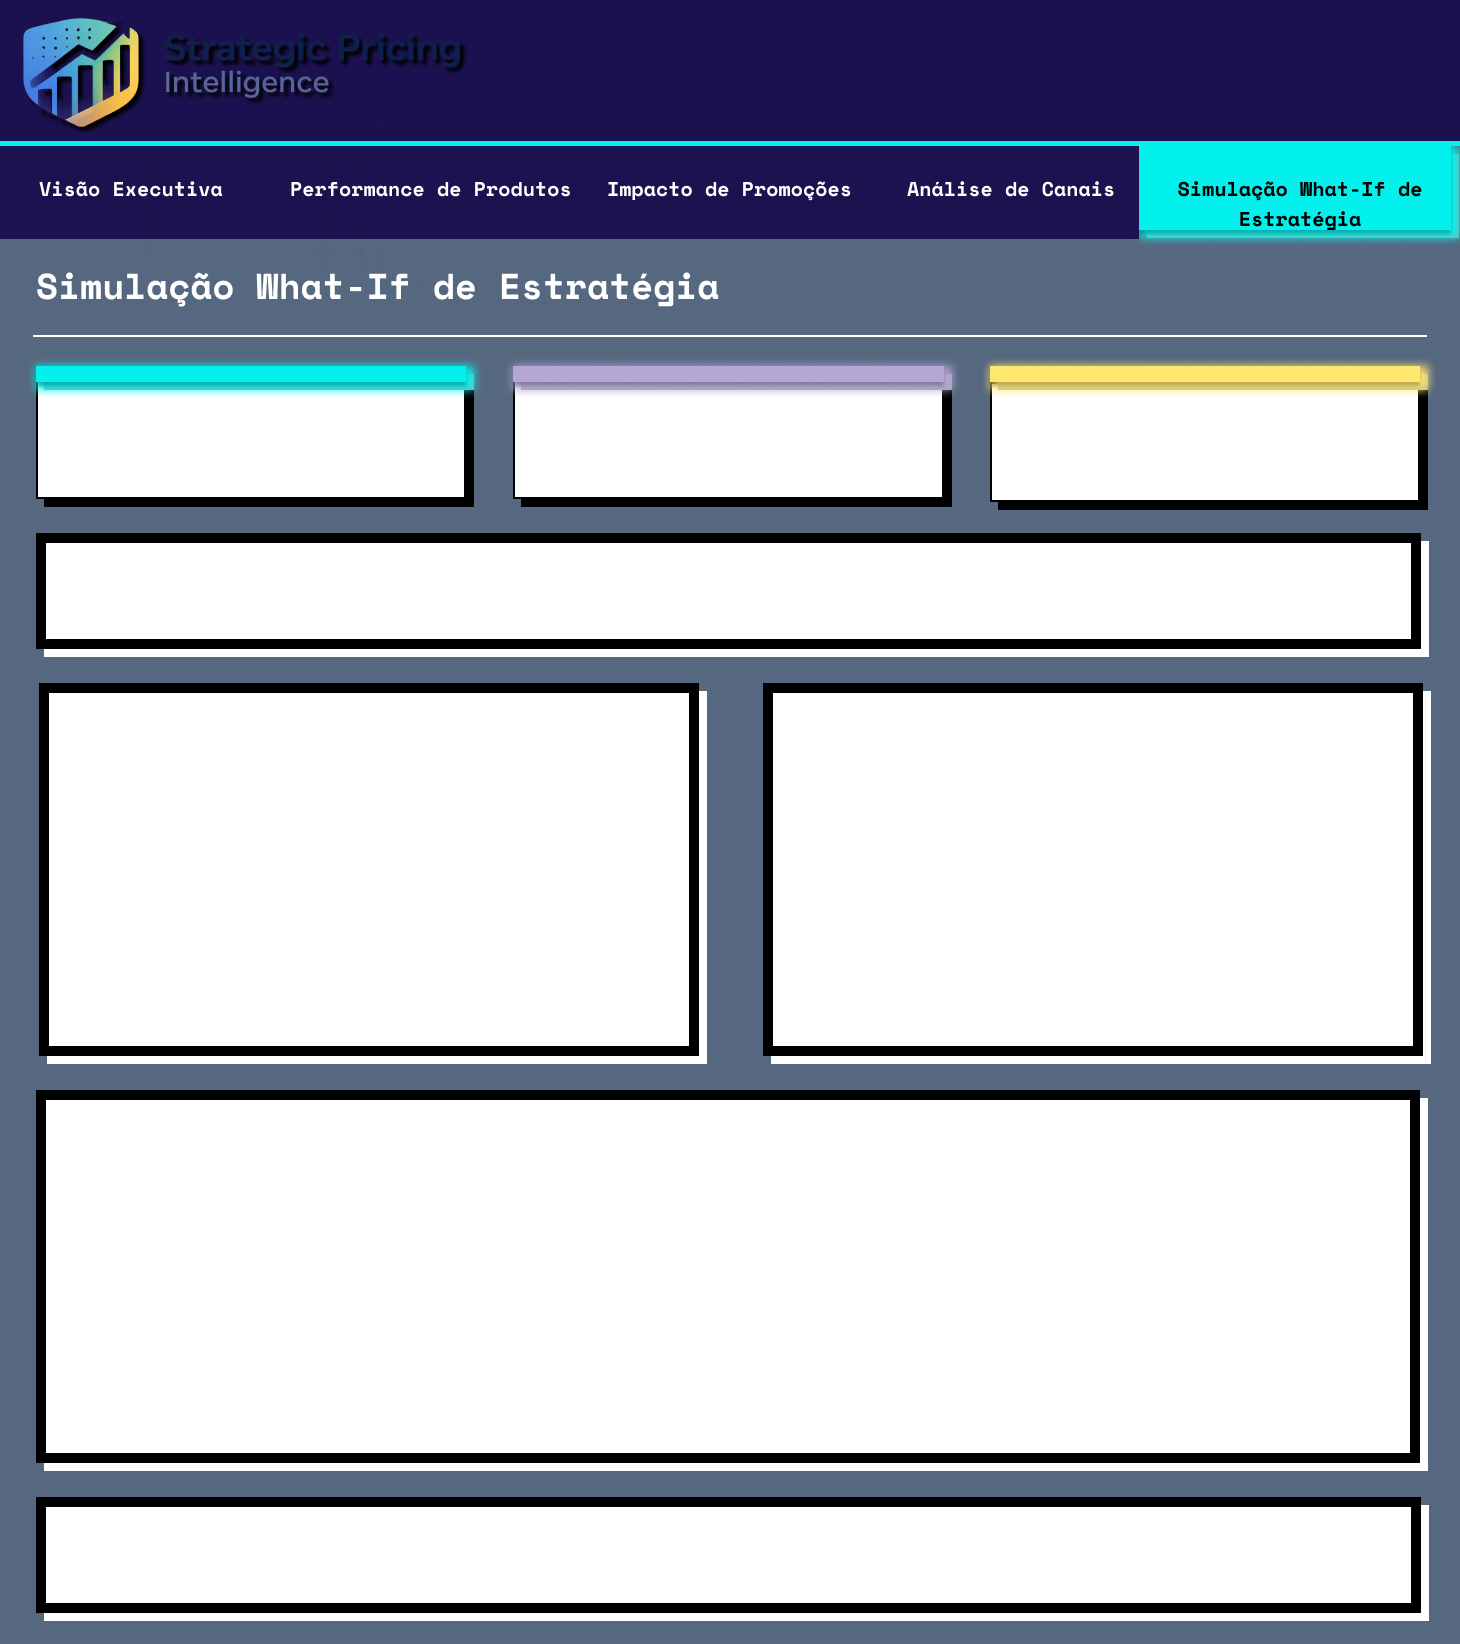

This screenshot's page, from the dashboard's own definition file:
{"tool":"powerbi","page":{"name":"Simulação What-If de Estratégia","canvas":[1460,1644],"ordinal":4},"visuals":[{"type":"slicer","title":"Ajuste de Preço %","fields":{"Values":["Ajuste Preço %.Ajuste Preço %"]},"box":[38.2,390,427.3,105.5],"z":0},{"type":"slicer","title":"Ajuste de Promoção %","fields":{"Values":["Ajuste Promoção %.Ajuste Promoção %"]},"box":[991.8,390,425.5,105.5],"z":1000},{"type":"slicer","title":"Ajuste de Volume %","fields":{"Values":["Ajuste Volume %.Ajuste Volume %"]},"box":[514.5,390,429.1,105.5],"z":2000},{"type":"clusteredColumnChart","title":"Receita Total e Receita Simulada por Canal","fields":{"Category":["Dim_Canal.Tipo"],"Y":["Fato_Vendas.Receita Total","Fato_Vendas.Receita Simulada"]},"box":[48.8,701.2,640,342.5],"z":3000},{"type":"scatterChart","title":"Margem Simulada","fields":{"X":["Fato_Vendas.Margem Simulada"],"Y":["Fato_Vendas.Receita Simulada"],"Size":["Ajuste Volume %.Volume Simulado"],"Series":["Dim_Produto.Categoria"]},"box":[772.5,701.2,640,342.5],"z":4000},{"type":"cardVisual","fields":{"Data":["Fato_Vendas.Insight Estratégico"]},"box":[45,538.8,1367.5,98.8],"z":5000},{"type":"pivotTable","fields":{"Values":["Fato_Vendas.Receita Heatmap"],"Columns":["Tabela_Preco.Value"],"Rows":["Tabela_Volume.Value"]},"box":[45,1098.8,1367.5,352.5],"z":6000},{"type":"cardVisual","fields":{"Data":["Fato_Vendas.Insight Preço Ótimo"]},"box":[45,1503.8,1367.5,98.8],"z":7000}]}

Visuals, with their boxes on the page's 1460x1644 design canvas (x1, y1, x2, y2). These are canvas units, not pixel positions in the 1460x1644 screenshot, which may show the page scaled, cropped or inside an application window:
"Ajuste de Preço %" slicer: (38,390,466,496)
"Ajuste de Promoção %" slicer: (992,390,1417,496)
"Ajuste de Volume %" slicer: (514,390,944,496)
"Receita Total e Receita Simulada por Canal" clusteredColumnChart: (49,701,689,1044)
"Margem Simulada" scatterChart: (772,701,1412,1044)
cardVisual - Fato_Vendas.Insight Estratégico: (45,539,1412,638)
pivotTable - Fato_Vendas.Receita Heatmap x Tabela_Preco.Value: (45,1099,1412,1451)
cardVisual - Fato_Vendas.Insight Preço Ótimo: (45,1504,1412,1603)
